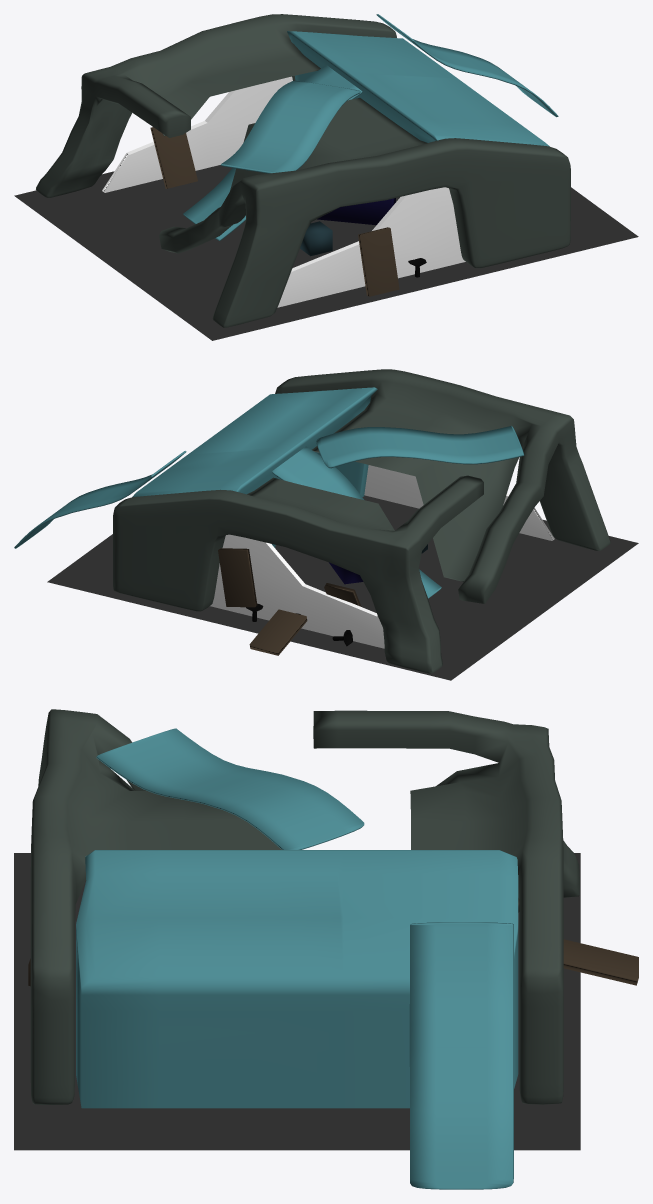
The model's file is Kiosco Futurista destruido.fbx.
3 views of the same model, one above another, from view 1: azimuth 30°, elevation 25°; view 2: azimuth 150°, elevation 25°; view 3: azimuth 270°, elevation 25° (orthographic). The views are drawn at different scales.
Visible parts, largest first — view 1: Cube.037, Plane.009, Cube.039, Cube.024, Plane.007, Cube.025, Cube.036, Plane.006, Plane.005, Cube.032, Cube.023, Cube.020; view 2: Cube.037, Plane.009, Cube.039, Cube.025, Plane.007, Plane.005, Cube.024, Cube.034, Plane.006, Cube.033, Cube.032; view 3: Cube.039, Cube.037, Plane.009, Plane.006, Plane.007, Cube.033.
Part boxes in pixels (x1,y1,x2,y2): Cube.037: (36,14,570,327); Plane.009: (14,165,638,340); Cube.039: (287,31,549,146); Cube.024: (277,187,465,307); Plane.007: (220,80,360,173); Cube.025: (102,76,292,192); Cube.036: (358,227,399,296); Plane.006: (376,14,558,117); Plane.005: (183,65,362,240); Cube.032: (150,127,197,188); Cube.023: (317,198,395,225); Cube.020: (300,221,332,256); Cube.037: (113,369,610,673); Plane.009: (47,495,638,680); Cube.039: (132,387,377,547); Cube.025: (210,534,384,648); Plane.007: (316,426,524,468); Plane.005: (272,446,441,598); Cube.024: (364,465,554,540); Cube.034: (218,548,257,607); Plane.006: (14,451,186,548); Cube.033: (249,609,307,655); Cube.032: (324,583,361,606); Cube.039: (76,850,518,1108); Cube.037: (30,709,579,1104); Plane.009: (14,853,580,1150); Plane.006: (409,922,513,1189); Plane.007: (96,728,364,849); Cube.033: (563,939,638,985).
Size of the model in its own units: 2066 by 538 by 1607.
